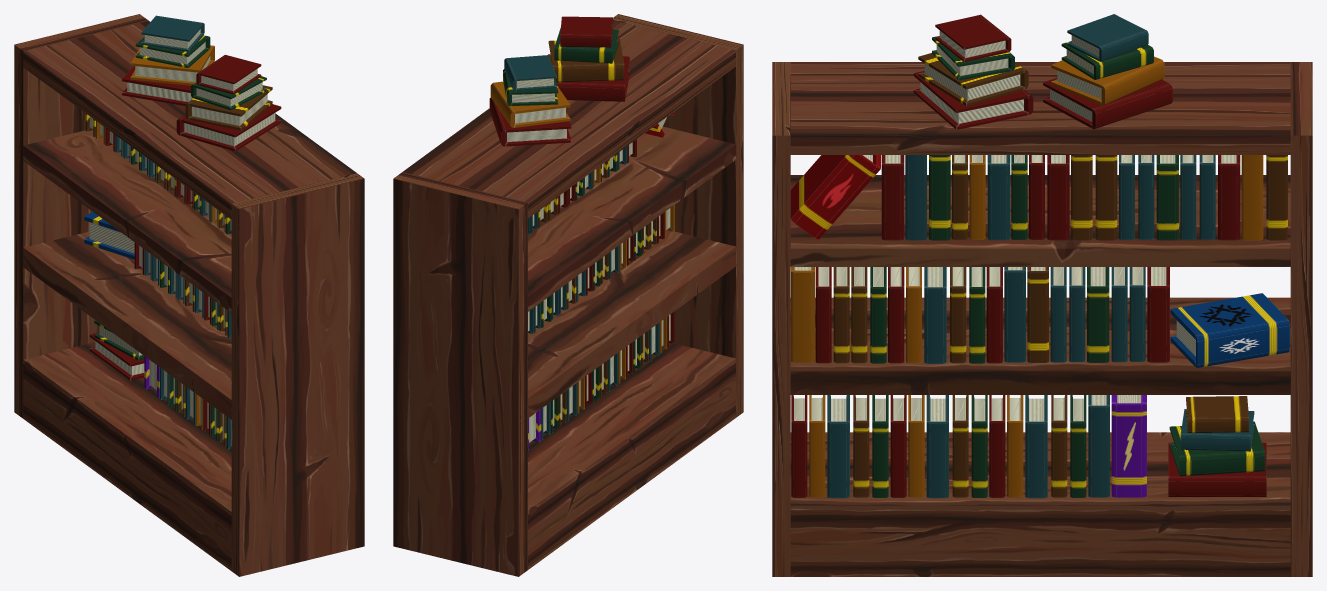
Rendered from bookcase.fbx.
The picture shows the model from 3 angles, left to right: view 1: azimuth 30°, elevation 25°; view 2: azimuth 150°, elevation 25°; view 3: azimuth 270°, elevation 25°; orthographic projection. The views are drawn at different scales.
Visible parts, largest first — view 1: bookcase, book93 (×3), book94 (×3), book96 (×2), book95 (×2), book_ice1, book_lightning1; view 2: bookcase, book94 (×2), book93 (×2), book96 (×2), book95 (×2); view 3: bookcase, book93 (×3), book94 (×3), book96 (×3), book_ice1, book95 (×3), book_fire1, book_lightning1, book77, book82, book87, book75 (+50 smaller).
Part boxes in pixels (<box>): bookcase: <box>14,14,364,576</box>; book93 (×3): <box>89,66,281,380</box>; book94 (×3): <box>94,45,272,360</box>; book96 (×2): <box>141,15,261,94</box>; book95 (×2): <box>135,35,266,110</box>; book_ice1: <box>84,212,134,259</box>; book_lightning1: <box>144,356,159,398</box>; bookcase: <box>393,14,743,576</box>; book94 (×2): <box>490,38,624,127</box>; book93 (×2): <box>489,54,629,146</box>; book96 (×2): <box>504,16,612,91</box>; book95 (×2): <box>503,27,618,106</box>; bookcase: <box>772,62,1312,576</box>; book93 (×3): <box>913,71,1266,496</box>; book94 (×3): <box>918,53,1265,476</box>; book96 (×3): <box>935,14,1248,433</box>; book_ice1: <box>1170,293,1289,368</box>; book95 (×3): <box>932,36,1254,451</box>; book_fire1: <box>790,155,880,239</box>; book_lightning1: <box>1111,395,1146,497</box>; book77: <box>827,395,849,498</box>; book82: <box>926,395,948,498</box>; book87: <box>1025,395,1047,498</box>; book75: <box>791,267,814,362</box>.
Bounding box in the file's own units: 7.67 × 25.06 × 23.82.
